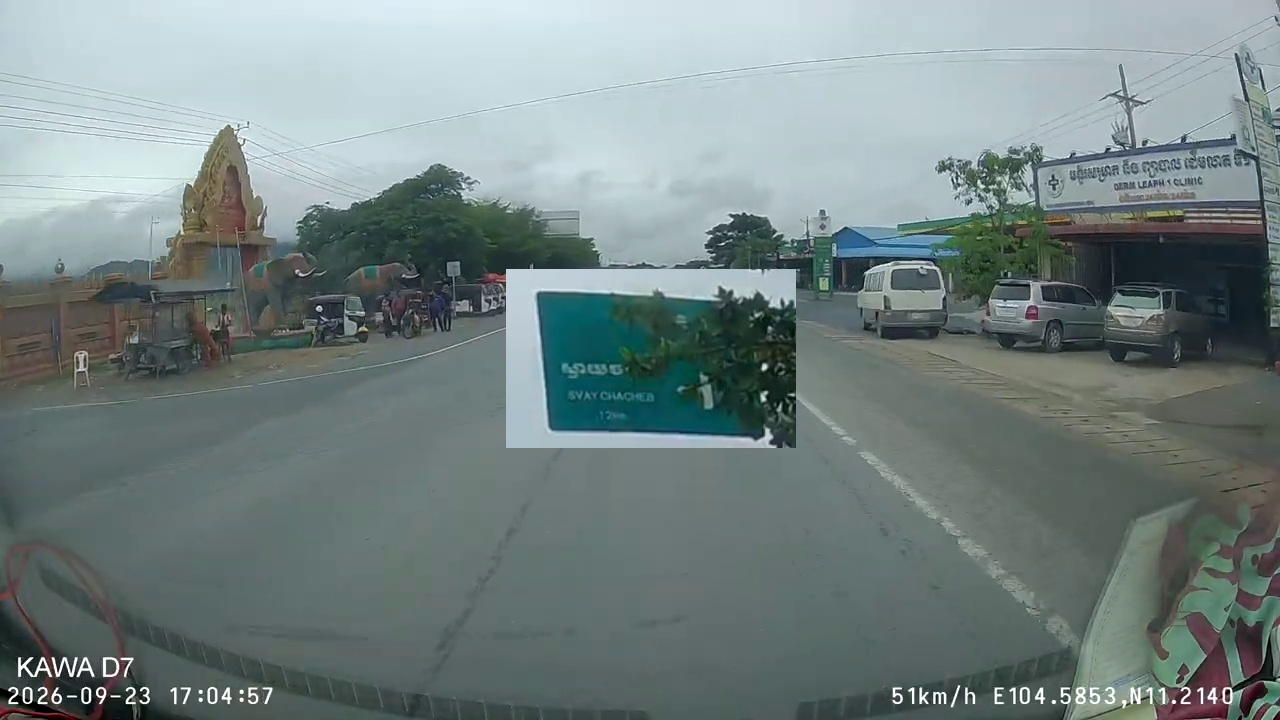direction_sign: (506, 269, 796, 448)
